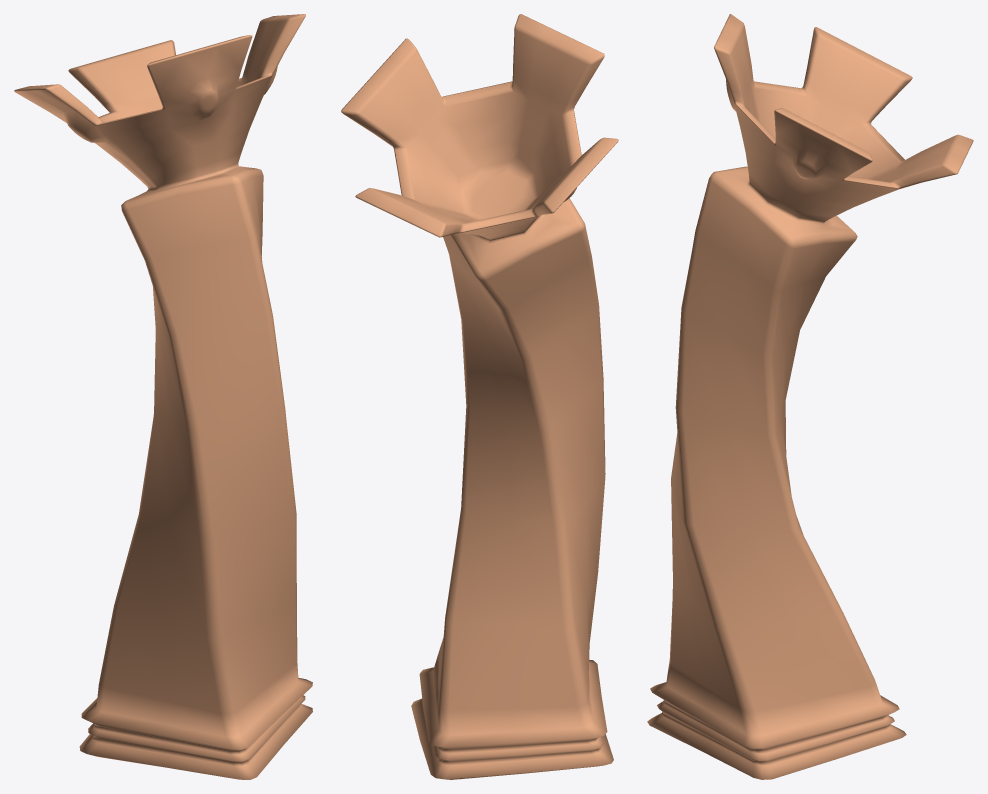
The model's file is Rey.fbx.
3 views of the same model, side by side, from view 1: azimuth 30°, elevation 25°; view 2: azimuth 150°, elevation 25°; view 3: azimuth 270°, elevation 25° (orthographic). The views are drawn at different scales.
Parts seen in each view (by area): view 1: Rey.002; view 2: Rey.002; view 3: Rey.002.
Part boxes in pixels (x1=…): Rey.002: x1=14, y1=14, x2=312, y2=779; Rey.002: x1=341, y1=14, x2=618, y2=779; Rey.002: x1=647, y1=14, x2=973, y2=779.
Bounding box in the file's own units: 105 × 281 × 119.
